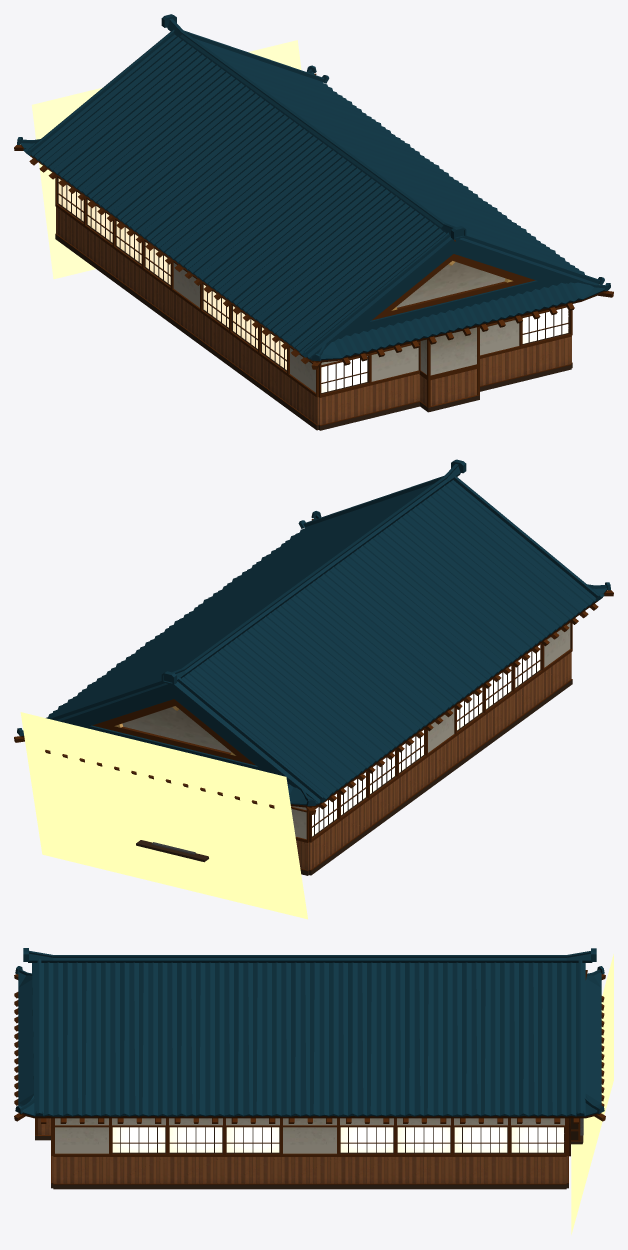
File: Dojo.glb
3 views of the same model, one above another, from view 1: azimuth 30°, elevation 25°; view 2: azimuth 150°, elevation 25°; view 3: azimuth 270°, elevation 25° (orthographic).
Visible parts, largest first — view 1: Bld_Dojo_Roof_End, Bld_Dojo_Roof (1), Bld_Dojo_Roof (4), Bld_Dojo_Roof (5), Bld_Dojo_Roof (8), Bld_Dojo_Roof (2), Bld_Dojo_Roof (3), Bld_Dojo_Roof, Bld_Dojo_Roof (6), Bld_Dojo_Roof (7), Bld_Dojo_Roof_End (1), Bld_Dojo_Wall_Center (+15 smaller); view 2: Outside, Bld_Dojo_Roof_End (1), Bld_Dojo_Roof, Bld_Dojo_Roof (3), Bld_Dojo_Roof (1), Bld_Dojo_Roof (6), Bld_Dojo_Roof (8), Bld_Dojo_Roof (5), Bld_Dojo_Roof (7), Bld_Dojo_Roof (2), Bld_Dojo_Roof (4), Bld_Dojo_Roof_End (+10 smaller); view 3: Bld_Dojo_Roof (2), Bld_Dojo_Wall_Window_Paper (×7), Bld_Dojo_Roof (3), Bld_Dojo_Roof (6), Bld_Dojo_Roof (8), Bld_Dojo_Roof (7), Bld_Dojo_Roof, Bld_Dojo_Roof (1), Bld_Dojo_Roof (5), Bld_Dojo_Roof (4), Bld_Dojo_Roof_End, Bld_Dojo_Roof_End (1) (+10 smaller).
Part boxes in pixels (left/top/right/bottom): Bld_Dojo_Roof_End: left=299, top=223, right=613, bottom=369; Bld_Dojo_Roof (1): left=125, top=95, right=443, bottom=250; Bld_Dojo_Roof (4): left=37, top=32, right=356, bottom=186; Bld_Dojo_Roof (5): left=66, top=53, right=385, bottom=208; Bld_Dojo_Roof (8): left=183, top=138, right=501, bottom=293; Bld_Dojo_Roof (2): left=154, top=117, right=472, bottom=271; Bld_Dojo_Roof (3): left=212, top=159, right=530, bottom=314; Bld_Dojo_Roof: left=96, top=74, right=414, bottom=229; Bld_Dojo_Roof (6): left=241, top=181, right=559, bottom=335; Bld_Dojo_Roof (7): left=270, top=202, right=584, bottom=356; Bld_Dojo_Roof_End (1): left=14, top=14, right=329, bottom=165; Bld_Dojo_Wall_Center: left=419, top=326, right=479, bottom=412; Outside: left=20, top=712, right=307, bottom=919; Bld_Dojo_Roof_End (1): left=14, top=668, right=328, bottom=814; Bld_Dojo_Roof: left=96, top=605, right=415, bottom=759; Bld_Dojo_Roof (3): left=213, top=519, right=531, bottom=674; Bld_Dojo_Roof (1): left=125, top=583, right=444, bottom=738; Bld_Dojo_Roof (6): left=241, top=498, right=560, bottom=653; Bld_Dojo_Roof (8): left=183, top=541, right=502, bottom=695; Bld_Dojo_Roof (5): left=67, top=626, right=386, bottom=780; Bld_Dojo_Roof (7): left=271, top=477, right=589, bottom=631; Bld_Dojo_Roof (2): left=154, top=562, right=473, bottom=717; Bld_Dojo_Roof (4): left=46, top=647, right=357, bottom=802; Bld_Dojo_Roof_End: left=298, top=459, right=613, bottom=610; Bld_Dojo_Roof (2): left=281, top=955, right=338, bottom=1123; Bld_Dojo_Wall_Window_Paper (×7): left=112, top=1127, right=563, bottom=1152; Bld_Dojo_Roof (3): left=167, top=955, right=224, bottom=1123; Bld_Dojo_Roof (6): left=110, top=955, right=167, bottom=1123; Bld_Dojo_Roof (8): left=224, top=955, right=281, bottom=1123; Bld_Dojo_Roof (7): left=53, top=955, right=110, bottom=1123; Bld_Dojo_Roof: left=395, top=955, right=452, bottom=1123; Bld_Dojo_Roof (1): left=338, top=955, right=395, bottom=1123; Bld_Dojo_Roof (5): left=452, top=955, right=509, bottom=1123; Bld_Dojo_Roof (4): left=509, top=955, right=566, bottom=1123; Bld_Dojo_Roof_End: left=14, top=948, right=53, bottom=1123; Bld_Dojo_Roof_End (1): left=566, top=948, right=605, bottom=1123.
Size of the model in its own units: 42.35 by 29.75 by 73.67.
Materials: 13 (7 with a texture image).
